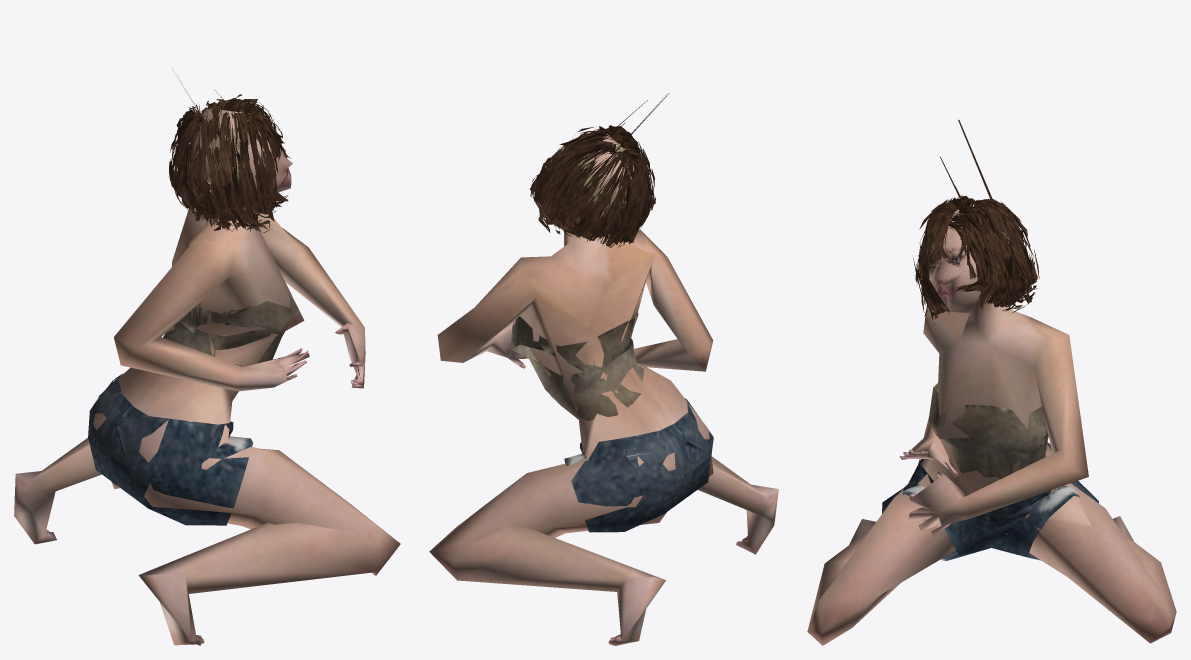
The model's file is pole_sedi.glb.
The picture shows the model from 3 angles, left to right: view 1: azimuth 30°, elevation 25°; view 2: azimuth 150°, elevation 25°; view 3: azimuth 270°, elevation 25°; orthographic projection. The views are drawn at different scales.
Parts seen in each view (by area): view 1: Object_10_s; view 2: Object_10_s; view 3: Object_10_s.
Boxes of the visible parts, x1,y1,x2,y2 form: Object_10_s: [14, 75, 400, 645]; Object_10_s: [429, 93, 778, 645]; Object_10_s: [807, 120, 1176, 645].
Size of the model in its own units: 0.6149 by 1.34 by 0.7687.
Materials: 1 (1 with a texture image).
